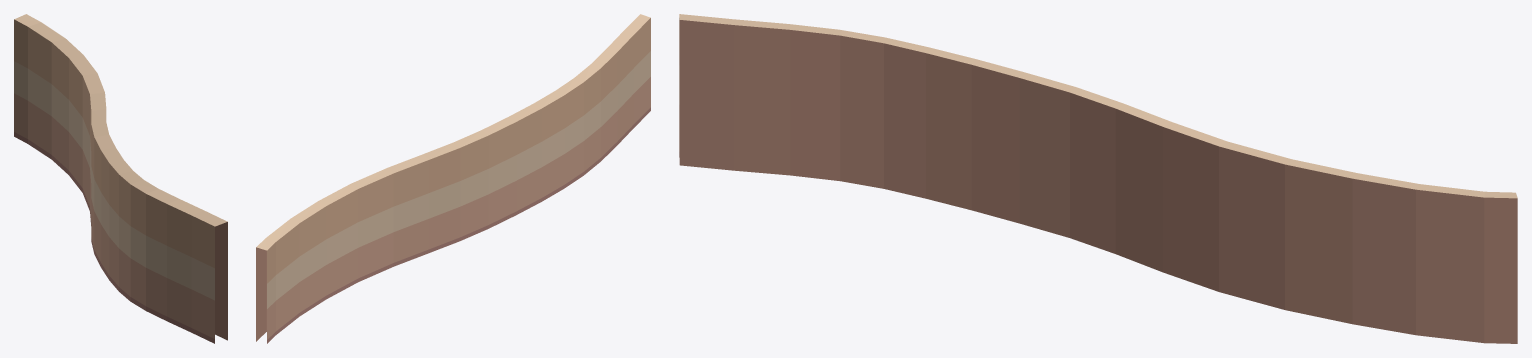
Rendered from pared_derecha_1.glb.
3 views of the same model, side by side, from view 1: azimuth 30°, elevation 25°; view 2: azimuth 150°, elevation 25°; view 3: azimuth 270°, elevation 25° (orthographic). The views are drawn at different scales.
Visible parts, largest first — view 1: pared_derecha_1; view 2: pared_derecha_1; view 3: pared_derecha_1.
Part boxes in pixels (x1=…): pared_derecha_1: x1=14, y1=14, x2=227, y2=343; pared_derecha_1: x1=256, y1=14, x2=650, y2=343; pared_derecha_1: x1=679, y1=14, x2=1517, y2=343.
Size of the model in its own units: 10.32 by 12.2 by 38.62.
